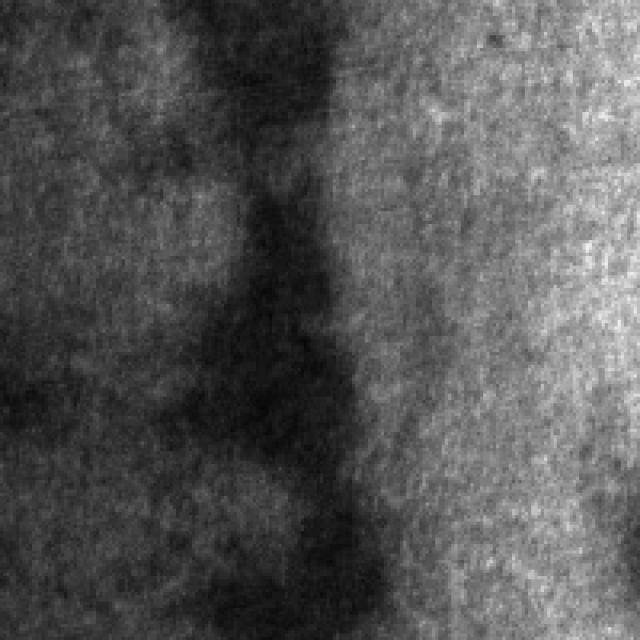patches: (156, 173, 394, 637), (160, 0, 339, 166)
